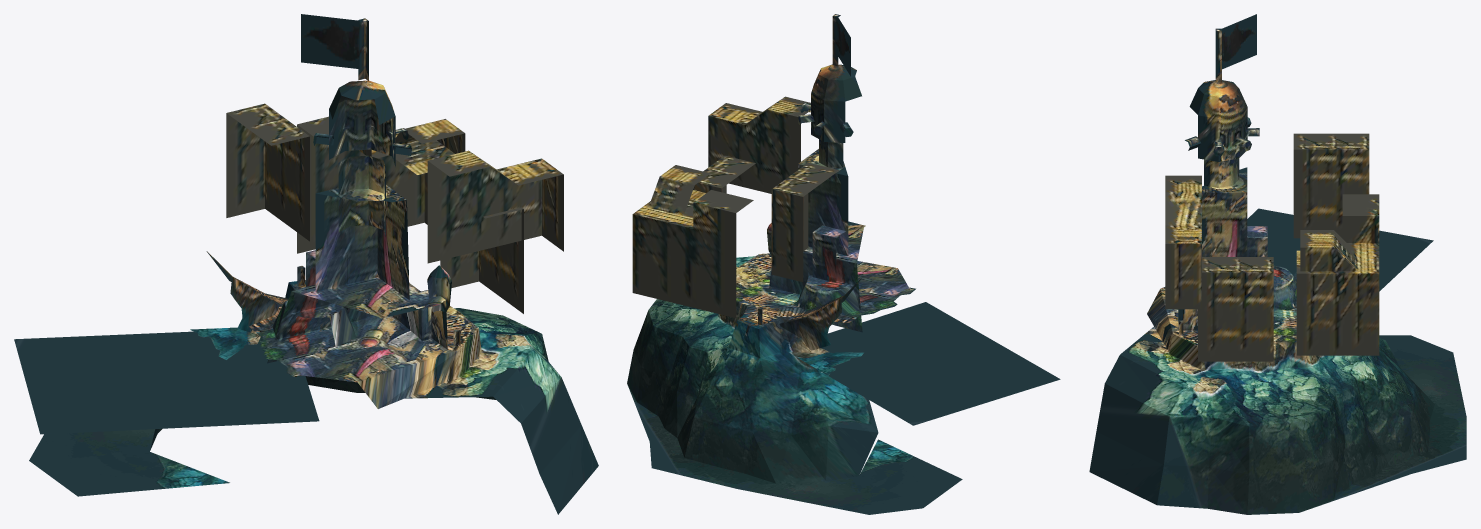
The model's file is F_GuildCannonTower_03.fbx.
3 renders of one model, left to right at view 1: azimuth 30°, elevation 25°; view 2: azimuth 150°, elevation 25°; view 3: azimuth 270°, elevation 25°, orthographic. The views are drawn at different scales.
Parts seen in each view (by area): view 1: F_GuildCannonTower_03, T_BuildForm_03 (1), T_BuildForm_02 (4), T_BuildForm_01, T_BuildForm_02 (5); view 2: F_GuildCannonTower_03, T_BuildForm_01, T_BuildForm_03 (1), T_BuildForm_02 (4), T_BuildForm_02 (5); view 3: F_GuildCannonTower_03, T_BuildForm_01, T_BuildForm_02 (5), T_BuildForm_02 (4), T_BuildForm_03 (1).
Part boxes in pixels (x1=…): F_GuildCannonTower_03: x1=14, y1=14, x2=598, y2=514; T_BuildForm_03 (1): x1=427, y1=150, x2=563, y2=263; T_BuildForm_02 (4): x1=226, y1=103, x2=309, y2=241; T_BuildForm_01: x1=297, y1=116, x2=465, y2=253; T_BuildForm_02 (5): x1=440, y1=207, x2=523, y2=313; F_GuildCannonTower_03: x1=627, y1=14, x2=1060, y2=514; T_BuildForm_01: x1=632, y1=165, x2=753, y2=317; T_BuildForm_03 (1): x1=708, y1=96, x2=810, y2=193; T_BuildForm_02 (4): x1=771, y1=162, x2=838, y2=281; T_BuildForm_02 (5): x1=693, y1=155, x2=755, y2=193; F_GuildCannonTower_03: x1=1089, y1=14, x2=1466, y2=514; T_BuildForm_01: x1=1296, y1=194, x2=1379, y2=355; T_BuildForm_02 (5): x1=1198, y1=257, x2=1273, y2=361; T_BuildForm_02 (4): x1=1293, y1=133, x2=1369, y2=238; T_BuildForm_03 (1): x1=1165, y1=175, x2=1201, y2=309.
Size of what is drawn, in the model's own units: 1.64 by 1.43 by 1.23.
